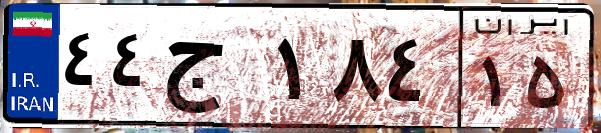1: (270, 28, 330, 110), (475, 38, 525, 113)
4: (385, 28, 445, 110), (57, 26, 110, 100), (110, 28, 158, 98)
5: (525, 38, 570, 115)
8: (330, 28, 385, 110)
ج: (158, 20, 270, 120)
